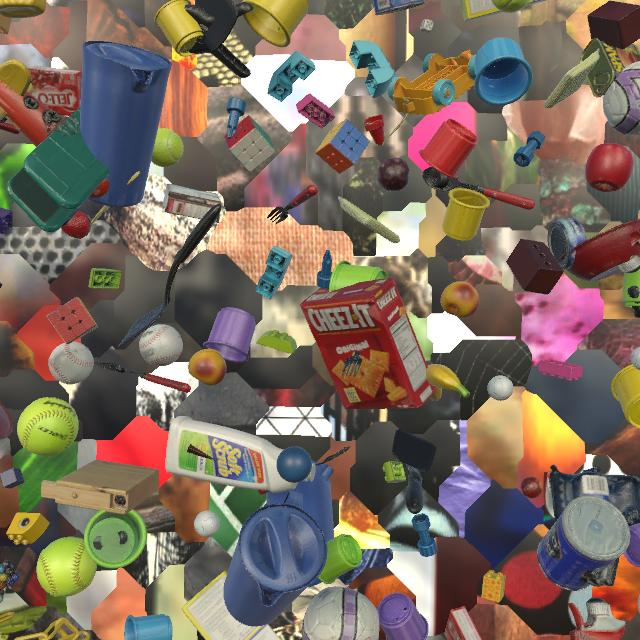ycb_002_master_chef_can: (537, 496, 630, 591)
ycb_003_cracker_box: (300, 278, 436, 409)
ycb_004_sugar_box: (181, 571, 281, 640), (460, 0, 547, 22)
ycb_006_mustard_bottle: (0, 0, 46, 18)
ycb_007_tuna_fish_can: (548, 217, 587, 270), (373, 0, 425, 15)
ycb_008_pudding_box: (163, 183, 221, 223)
ycb_009_gelatin_box: (28, 65, 82, 116), (444, 606, 482, 640)
ycb_010_potted_meat_can: (580, 38, 640, 97)
ycb_011_banana: (426, 364, 470, 401)
ycb_012_strawberry: (60, 211, 92, 239)
ycb_013_apple: (585, 143, 634, 192)
ycb_015_peach: (188, 349, 227, 386), (441, 281, 479, 318)
ycb_018_plum: (377, 158, 410, 192)
